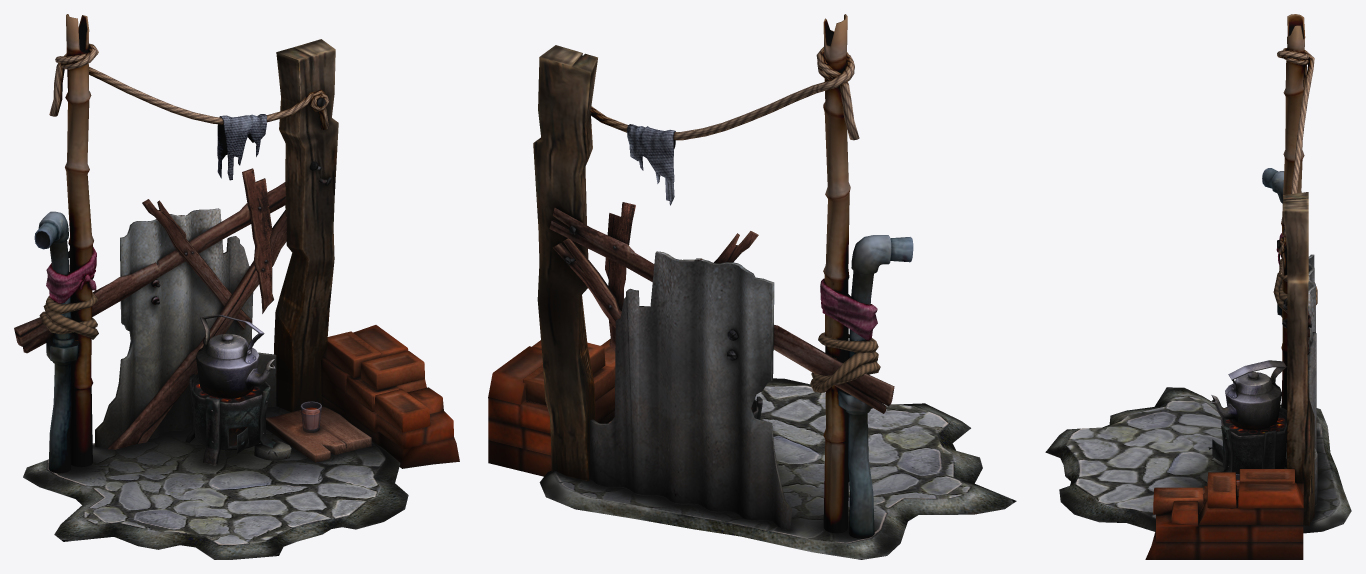
3 views of the same model, side by side, from view 1: azimuth 30°, elevation 25°; view 2: azimuth 150°, elevation 25°; view 3: azimuth 270°, elevation 25° (orthographic). The views are drawn at different scales.
Parts seen in each view (by area): view 1: Rocksalt_TeaStall_test_Rocksalt_TeaStall_test_DirectX Shader, Glass_Rocksalt_TeaStall_test_Rocksalt_TeaStall_test_Glass_0; view 2: Rocksalt_TeaStall_test_Rocksalt_TeaStall_test_DirectX Shader; view 3: Rocksalt_TeaStall_test_Rocksalt_TeaStall_test_DirectX Shader.
Boxes of the visible parts, x1,y1,x2,y2 form: Rocksalt_TeaStall_test_Rocksalt_TeaStall_test_DirectX Shader: (14, 14, 459, 559); Glass_Rocksalt_TeaStall_test_Rocksalt_TeaStall_test_Glass_0: (300, 401, 321, 432); Rocksalt_TeaStall_test_Rocksalt_TeaStall_test_DirectX Shader: (488, 14, 1016, 559); Rocksalt_TeaStall_test_Rocksalt_TeaStall_test_DirectX Shader: (1045, 14, 1351, 559).
Bounding box in the file's own units: 103 × 117 × 79.22.
2 materials, 2 textured.
